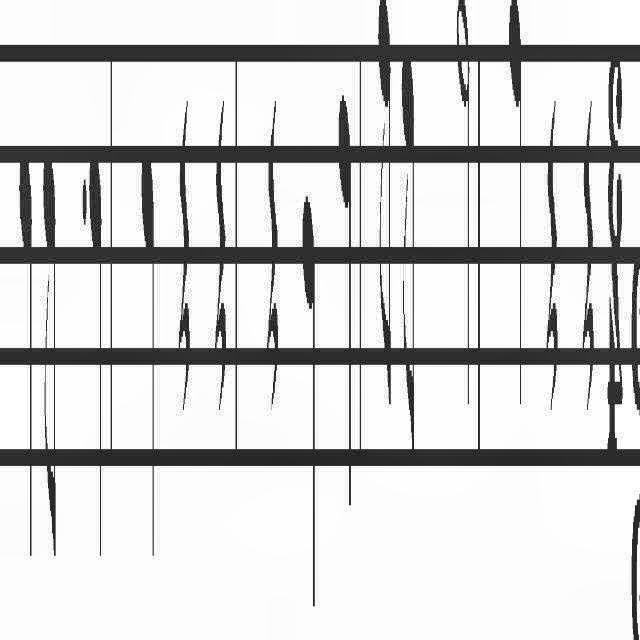Eighth-note: (400, 34, 416, 473), (42, 144, 58, 568), (378, 1, 394, 416)
Half-note: (458, 1, 472, 416)
Quarter-note: (302, 182, 318, 626), (140, 136, 156, 578), (18, 142, 34, 578), (89, 139, 103, 581), (338, 88, 352, 512), (509, 0, 523, 404)
Quarter-rest: (213, 93, 227, 420), (582, 96, 594, 424), (178, 93, 190, 420), (266, 95, 278, 418), (546, 102, 558, 410)
